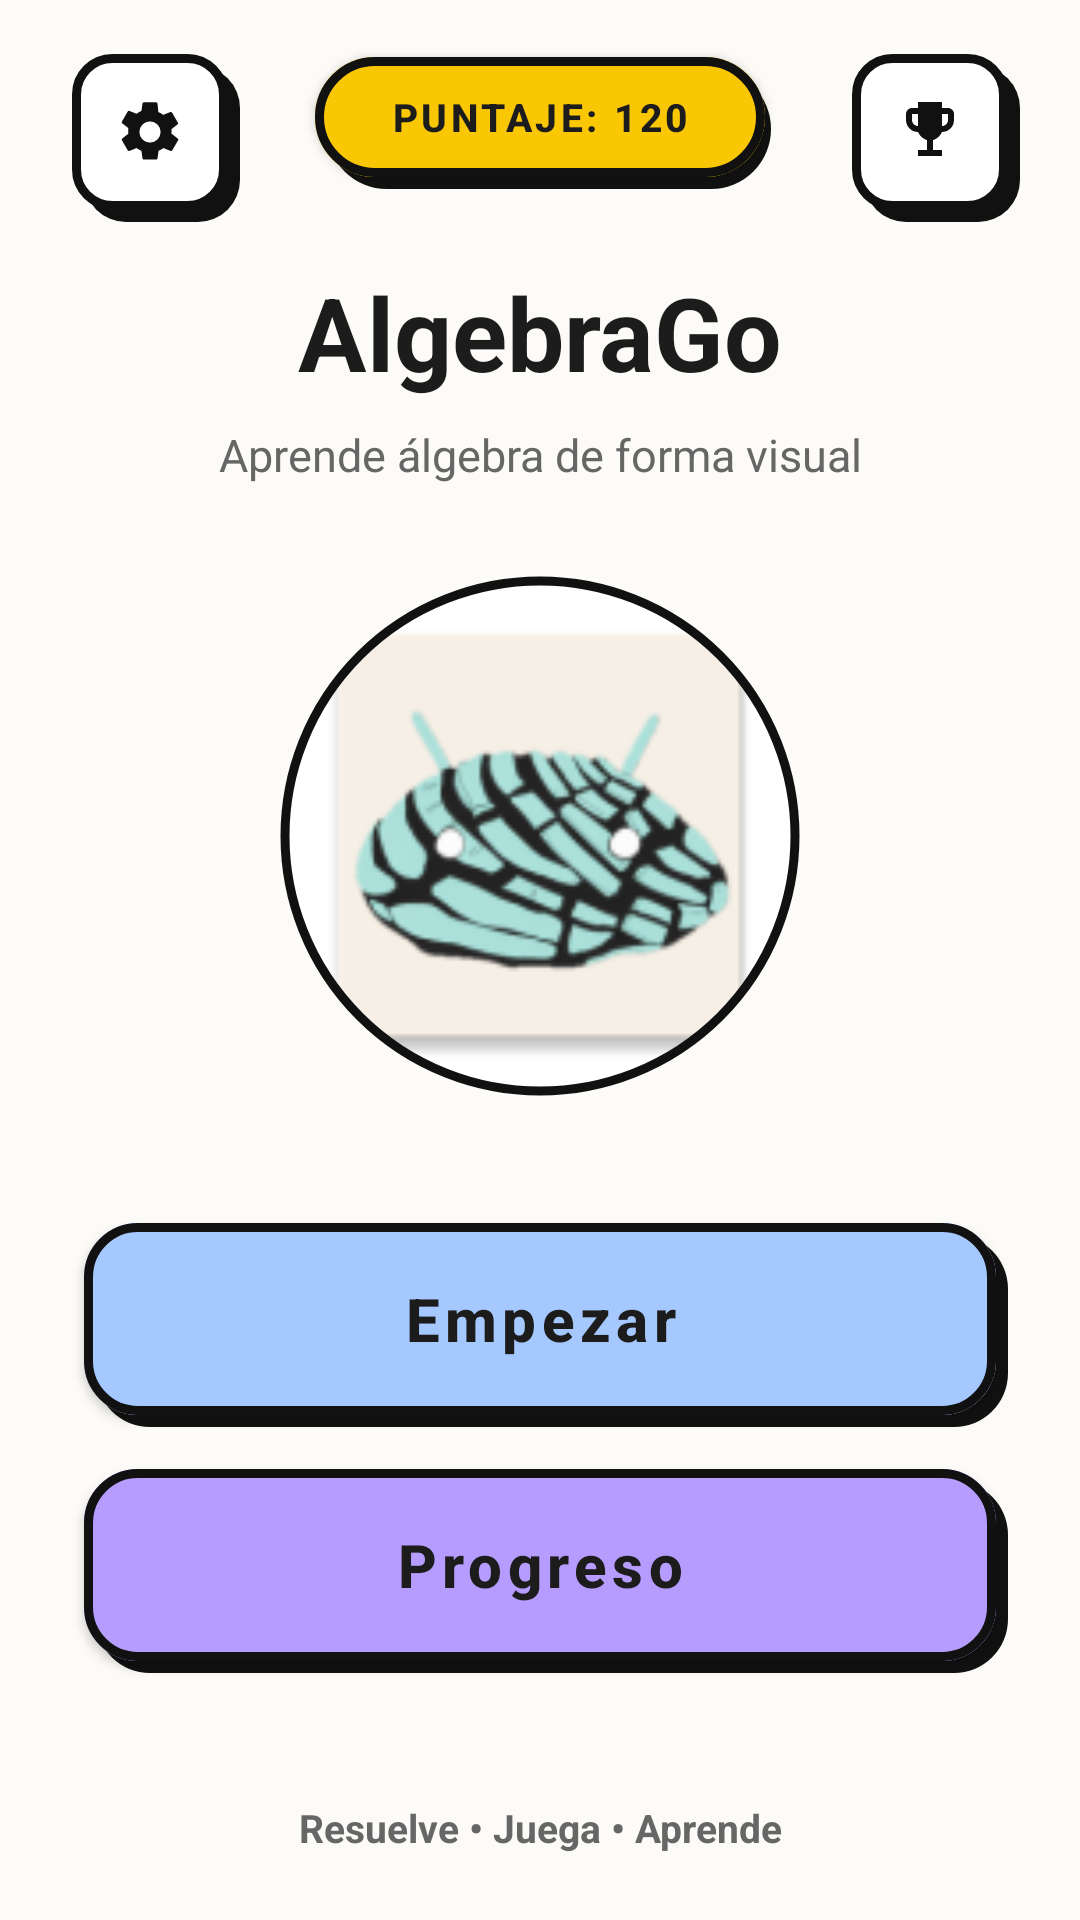

Icon click points for this 1080x1920 phone screenshot, format point (x, y):
Configuración: point (150, 132)
Logros: point (930, 132)
